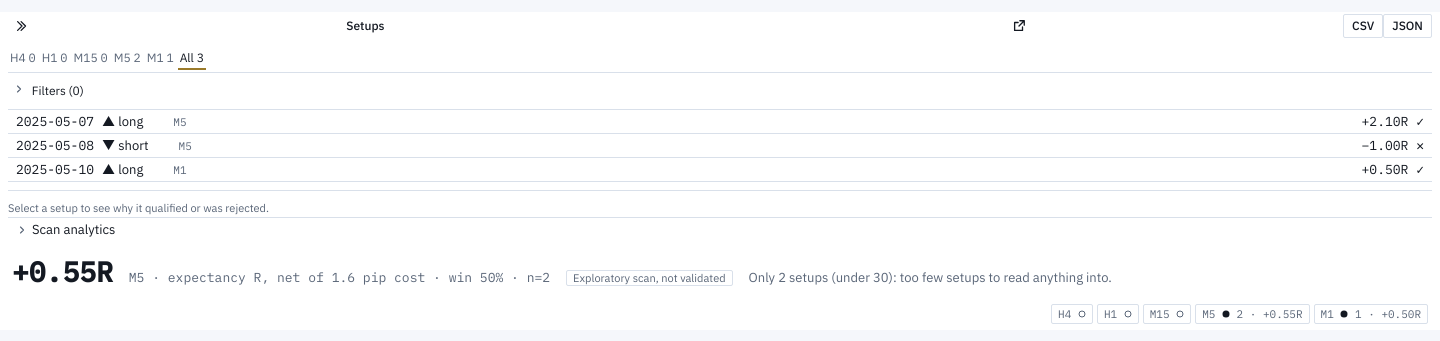
Test case: summary strip › shows the active timeframe's expectancy, the badge and the too-few note, with no combined total
The width and height of the screenshot is (1440, 341).
Click the button named "Show M5 setups" at (1252, 314), box left=1195, top=304, right=1310, bottom=324
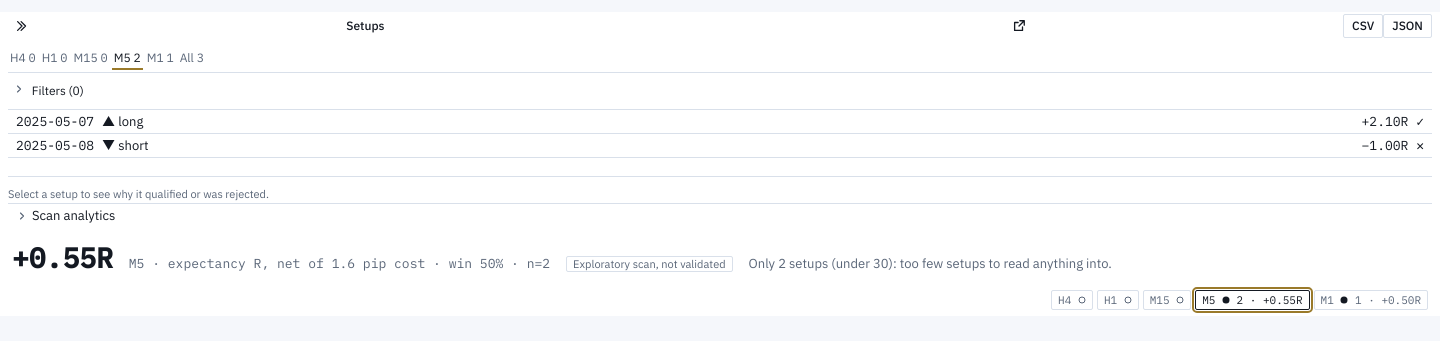
Check: the text named "Expectancy in R, net of cost" reads "+0.55R", box left=12, top=239, right=113, bottom=276
Check: the text "M5 · expectancy R, net of 1.6 pip cost · win 50% · n=2" is shown, box left=129, top=255, right=550, bottom=273
Click the button named "Show M1 setups" at (1371, 300), box left=1314, top=290, right=1428, bottom=310
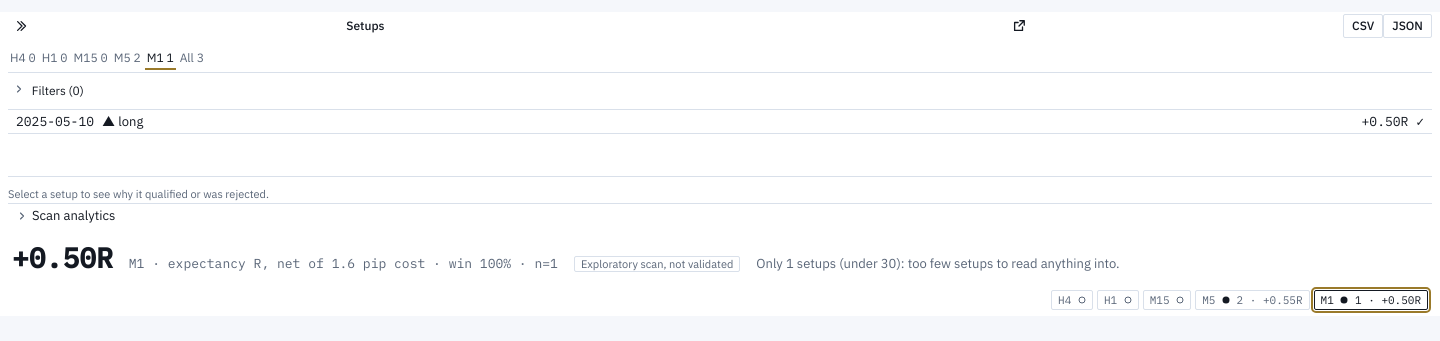
Check: the text named "Expectancy in R, net of cost" reads "+0.50R", box left=12, top=239, right=113, bottom=276
